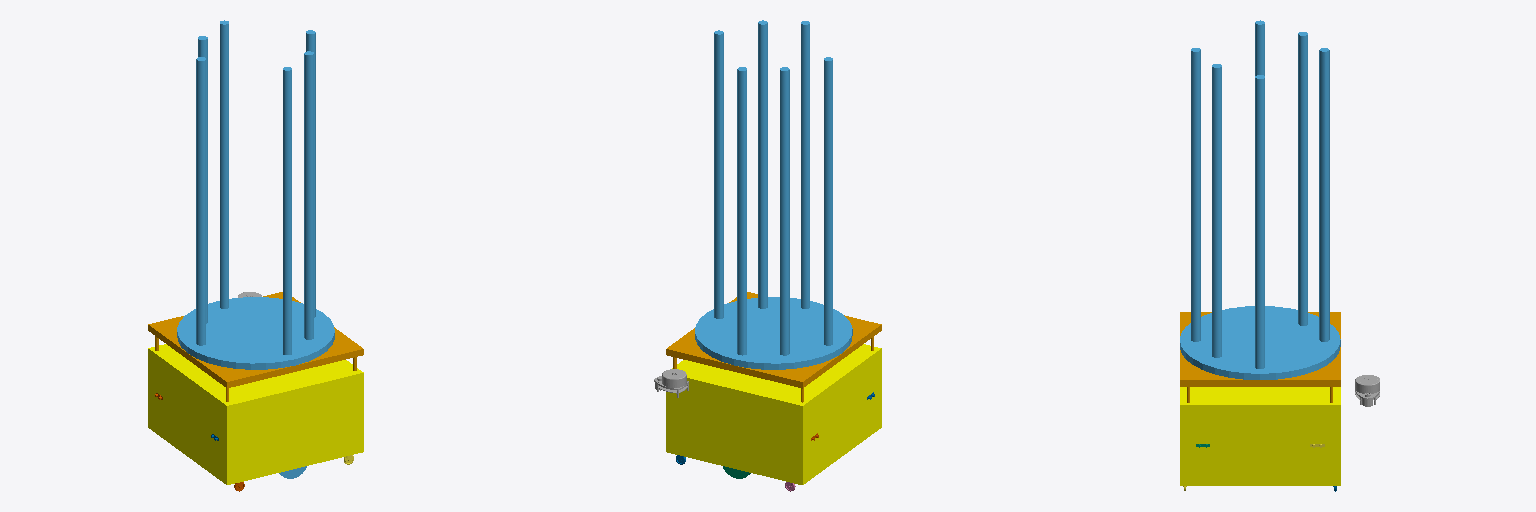
URDF robot description (uvd):
<?xml version="1.0" encoding="utf-8"?>
<!-- This URDF was automatically created by SolidWorks to URDF Exporter! Originally created by [author] ([email redacted])
     Commit Version: 1.5.1-0-g916b5db  Build Version: 1.5.7152.31018
     For more information, please see http://wiki.ros.org/sw_urdf_exporter -->
<robot
  name="uvd" xmlns:xacro="https://www.ros.org/wiki/xacro">
  <link
    name="base_link">
    <inertial>
      <origin
        xyz="0.0 0.0 0.0"
        rpy="0 0 0" />
      <mass
        value="10" />
      <inertia
        ixx="0.01"
        ixy="0.0"
        ixz="0.0"
        iyy="0.01"
        iyz="0.0"
        izz="0.01" />
    </inertial>
    <visual>
      <origin
        xyz="0 0 0"
        rpy="0 0 0" />
      <geometry>
        <mesh
          filename="package://uvd/meshes/base.stl" />
      </geometry>
      <material
        name="">
        <color
          rgba="1 1 0 1" />
      </material>
    </visual>
    <collision>
      <origin
        xyz="0 0 0"
        rpy="0 0 0" />
      <geometry>
	  <box size="0.45 0.45 0.25" />
      </geometry>
    </collision>
  </link>
  <link
    name="back_right_wheel">
    <inertial>
      <origin
        xyz="0.0 0.0 0.0"
        rpy="0 0 0" />
      <mass
        value="3" />
      <inertia
        ixx="0.01"
        ixy="0.0"
        ixz="0.0"
        iyy="0.01"
        iyz="0.0"
        izz="0.01" />
    </inertial>
    <visual>
      <origin
        xyz="0 0 0"
        rpy="0 0 0" />
      <geometry>
        <mesh
          filename="package://uvd/meshes/wheel.stl" />
      </geometry>
    </visual>
    <collision>
      <origin
        xyz="0 0 0"
        rpy="0 1.57075 1.57075" />
      <geometry>
	  <cylinder length="0.03" radius="0.05"/>
      </geometry>
    </collision>
  </link>
  <joint
    name="back_right_wheel_joint"
    type="continuous">
    <origin
      xyz="0 -0.2 -0.11"
      rpy="0 0 3.1416" />
    <parent
      link="base_link" />
    <child
      link="back_right_wheel" />
    <axis
      xyz="0 -1 0" />
  </joint>
  <link
    name="back_left_wheel">
    <inertial>
      <origin
        xyz="0.0 0.0 0.0"
        rpy="0 0 0" />
      <mass
        value="3" />
      <inertia
        ixx="0.01"
        ixy="0.0"
        ixz="0.0"
        iyy="0.01"
        iyz="0.0"
        izz="0.01" />
    </inertial>
    <visual>
      <origin
        xyz="0 0 0"
        rpy="0 0 0" />
      <geometry>
        <mesh
          filename="package://uvd/meshes/wheel.stl" />
      </geometry>
    </visual>
    <collision>
      <origin
        xyz="0 0 0"
        rpy="0 1.57075 1.57075" />
      <geometry>
	  <cylinder length="0.03" radius="0.05"/>
      </geometry>
    </collision>
  </link>
  <joint
    name="back_left_wheel_joint"
    type="continuous">
    <origin
      xyz="0 0.2 -0.11"
      rpy="0 0 0" />
    <parent
      link="base_link" />
    <child

      link="back_left_wheel" />
    <axis
      xyz="0 1 0" />
  </joint>

  <gazebo>
    <plugin filename="libgazebo_ros_diff_drive.so" name="differential_drive_controller_front">
      <rosDebugLevel>Debug</rosDebugLevel>
      <publishWheelTF>True</publishWheelTF>
      
      <publishTf>1</publishTf>
      <publishWheelJointState>true</publishWheelJointState>
      <alwaysOn>true</alwaysOn>
      <updateRate>100.0</updateRate>
      <leftJoint>back_right_wheel_joint</leftJoint>
      <rightJoint>back_left_wheel_joint</rightJoint>
      <wheelSeparation>0.4</wheelSeparation>
      <wheelDiameter>0.1</wheelDiameter>
      <broadcastTF>1</broadcastTF>
      <wheelTorque>30</wheelTorque>
      <wheelAcceleration>1.8</wheelAcceleration>
      <commandTopic>cmd_vel</commandTopic>
      <odometryFrame>odom</odometryFrame>
      <odometryTopic>odom</odometryTopic>
      <robotBaseFrame>base_link</robotBaseFrame>
    </plugin>
  </gazebo>


  <link
    name="front_caster_right_wheel">
    <inertial>
      <origin
        xyz="0.0 0.0 0.0"
        rpy="0 0 0" />
      <mass
        value="3" />
      <inertia
        ixx="0.01"
        ixy="0.0"
        ixz="0.0"
        iyy="0.01"
        iyz="0.0"
        izz="0.01" />
    </inertial>
    <visual>
      <origin
        xyz="0 0 0"
        rpy="0 0 0" />
      <geometry>
        <mesh
          filename="package://uvd/meshes/caster.stl" />
      </geometry>
    </visual>
    <collision>
      <origin
        xyz="0.005 0 -0.0085"
        rpy="0 0 0" />
      <geometry>
	  <box size="0.037942 0.014811 0.037519" />
      </geometry>
    </collision>
  </link>
  <joint
    name="front_caster_right_wheel_joint"
    type="fixed">
    <origin
      xyz="0.18 -0.21 -0.1327"
      rpy="0 0 0" />
    <parent
      link="base_link" />
    <child

      link="front_caster_right_wheel" />
    <axis
      xyz="0 0 0" />
  </joint>
  <link
    name="front_caster_left_wheel">
    <inertial>
      <origin
        xyz="0.0 0.0 0.0"
        rpy="0 0 0" />
      <mass
        value="3" />
      <inertia
        ixx="0.01"
        ixy="0.0"
        ixz="0.0"
        iyy="0.01"
        iyz="0.0"
        izz="0.01" />
    </inertial>
    <visual>
      <origin
        xyz="0 0 0"
        rpy="0 0 0" />
      <geometry>
        <mesh
          filename="package://uvd/meshes/caster.stl" />
      </geometry>
    </visual>
    <collision>
      <origin
        xyz="0.005 0 -0.0085"
        rpy="0 0 0" />
      <geometry>
	  <box size="0.037942 0.014811 0.037519" />
      </geometry>
    </collision>
  </link>
  <joint
    name="front_caster_left_wheel_joint"
    type="fixed">
    <origin
      xyz="0.18 0.21 -0.1327"
      rpy="0 0 0" />
    <parent
      link="base_link" />
    <child
      link="front_caster_left_wheel" />
    <axis
      xyz="0 0 0" />
  </joint>

  <link
    name="back_caster_right_wheel">
    <inertial>
      <origin
        xyz="0.0 0.0 0.0"
        rpy="0 0 0" />
      <mass
        value="3" />
      <inertia
        ixx="0.01"
        ixy="0.0"
        ixz="0.0"
        iyy="0.01"
        iyz="0.0"
        izz="0.01" />
    </inertial>
    <visual>
      <origin
        xyz="0 0 0"
        rpy="0 0 0" />
      <geometry>
        <mesh
          filename="package://uvd/meshes/caster.stl" />
      </geometry>
    </visual>
    <collision>
      <origin
        xyz="0.005 0 -0.0085"
        rpy="0 0 0" />
      <geometry>
	  <box size="0.037942 0.014811 0.037519" />
      </geometry>
    </collision>
  </link>
  <joint
    name="back_caster_right_wheel_joint"
    type="fixed">
    <origin
      xyz="-0.18 -0.21 -0.1327"
      rpy="0 0 0" />
    <parent
      link="base_link" />
    <child
      link="back_caster_right_wheel" />
    <axis
      xyz="0 0 0" />
  </joint>
  <link
    name="back_caster_left_wheel">
    <inertial>
      <origin
        xyz="0.0 0.0 0.0"
        rpy="0 0 0" />
      <mass
        value="3" />
      <inertia
        ixx="0.01"
        ixy="0.0"
        ixz="0.0"
        iyy="0.01"
        iyz="0.0"
        izz="0.01" />
    </inertial>
    <visual>
      <origin
        xyz="0 0 0"
        rpy="0 0 0" />
      <geometry>
        <mesh
          filename="package://uvd/meshes/caster.stl" />
      </geometry>
    </visual>
    <collision>
      <origin
        xyz="0.005 0 -0.0085"
        rpy="0 0 0" />
      <geometry>
	  <box size="0.037942 0.014811 0.037519" />
      </geometry>
    </collision>
  </link>
  <joint
    name="back_caster_left_wheel_joint"
    type="fixed">
    <origin
      xyz="-0.18 0.21 -0.1327"
      rpy="0 0 0" />
    <parent
      link="base_link" />
    <child
      link="back_caster_left_wheel" />
    <axis
      xyz="0 0 0" />
  </joint>

  <link
    name="laser">
    <inertial>
      <origin
        xyz="0.0 0.0 0.0"
        rpy="0 0 0" />
      <mass
        value="3" />
      <inertia
        ixx="0.01"
        ixy="0.0"
        ixz="0.0"
        iyy="0.01"
        iyz="0.0"
        izz="0.01" />
    </inertial>
    <visual>
      <origin
        xyz="0 0 0"
        rpy="0 0 0" />
      <geometry>
        <mesh
          filename="package://uvd/meshes/lidar.STL" />
      </geometry>
    </visual>
    <collision>
      <origin
        xyz="0 0 0"
        rpy="0 0 0" />
      <geometry>
        <mesh
          filename="package://uvd/meshes/lidar.STL" />
      </geometry>
    </collision>
  </link>
  <joint
    name="lidar_joint"
    type="fixed">
    <origin
      xyz="0.16 0.3 0.15"
      rpy="0 0 3.14" />
    <parent
      link="base_link" />
    <child
      link="laser" />
    <axis
      xyz="0 0 0" />
  </joint>

  <gazebo reference="laser">
    <sensor type="ray" name="lds_lfcd_sensor">
      <pose>0 0 0 0 0 0</pose>
      <visualize>false</visualize>
      <update_rate>5</update_rate>
      <ray>
        <scan>
          <horizontal>
            <samples>360</samples>
            <resolution>1</resolution>
            <min_angle>0.0</min_angle>
            <max_angle>6.28319</max_angle>
          </horizontal>
        </scan>
        <range>
          <min>0.120</min>
          <max>30.0</max>
          <resolution>0.015</resolution>
        </range>
        <noise>
          <type>gaussian</type>
          <mean>0.0</mean>
          <stddev>0.01</stddev>
        </noise>
      </ray>
      <plugin name="gazebo_ros_lds_lfcd_controller" filename="libgazebo_ros_laser.so">
        <topicName>scan</topicName>
        <frameName>laser</frameName>
      </plugin>
    </sensor>
  </gazebo>


  <link
    name="shelf">
    <inertial>
      <origin
        xyz="0.0 0.0 0.0"
        rpy="0 0 0" />
      <mass
        value="3" />
      <inertia
        ixx="0.01"
        ixy="0.0"
        ixz="0.0"
        iyy="0.01"
        iyz="0.0"
        izz="0.01" />
    </inertial>
    <visual>
      <origin
        xyz="0 0 0"
        rpy="0 0 0" />
      <geometry>
        <mesh
          filename="package://uvd/meshes/shelf.stl" />
      </geometry>
    </visual>
    <collision>
      <origin
        xyz="0 0 0"
        rpy="0 0 0" />
      <geometry>
        <box size="0.45 0.45 0.04" />
      </geometry>
    </collision>
  </link>
  <joint
    name="shelf_joint"
    type="fixed">
    <origin
      xyz="0 0 0.19"
      rpy="0 0 0" />
    <parent
      link="base_link" />
    <child
      link="shelf" />
    <axis
      xyz="0 0 0" />
  </joint>

  <link
    name="circuler">
    <inertial>
      <origin
        xyz="0.0 0.0 0.0"
        rpy="0 0 0" />
      <mass
        value="3" />
      <inertia
        ixx="0.01"
        ixy="0.0"
        ixz="0.0"
        iyy="0.01"
        iyz="0.0"
        izz="0.01" />
    </inertial>
    <visual>
      <origin
        xyz="0 0 0"
        rpy="0 0 0" />
      <geometry>
        <mesh
          filename="package://uvd/meshes/circuler.stl" />
      </geometry>
    </visual>
    <collision>
      <origin
        xyz="0 0 0"
        rpy="0 0 0" />
      <geometry>
        <mesh
          filename="package://uvd/meshes/circuler.stl" />
      </geometry>
    </collision>
  </link>
  <joint
    name="circuler_joint"
    type="fixed">
    <origin
      xyz="0 0 0.21"
      rpy="0 0 0" />
    <parent
      link="base_link" />
    <child
      link="circuler" />
    <axis
      xyz="0 0 0" />
  </joint>

  <link
    name="fr_sonar">
    <inertial>
      <origin
        xyz="0.0 0.0 0.0"
        rpy="0 0 0" />
      <mass
        value="3" />
      <inertia
        ixx="0.01"
        ixy="0.0"
        ixz="0.0"
        iyy="0.01"
        iyz="0.0"
        izz="0.01" />
    </inertial>
    <visual>
      <origin
        xyz="0 0 0"
        rpy="0 0 0" />
      <geometry>
        <mesh
          filename="package://uvd/meshes/sonar.stl" />
      </geometry>
    </visual>
    <collision>
      <origin
        xyz="0 0 0"
        rpy="0 0 0" />
      <geometry>
        <mesh
          filename="package://uvd/meshes/sonar.stl" />
      </geometry>
    </collision>
  </link>
  <joint
    name="fr_joint"
    type="fixed">
    <origin
      xyz="0.225 -0.16 0"
      rpy="0 0 0" />
    <parent
      link="base_link" />
    <child
      link="fr_sonar" />
    <axis
      xyz="0 0 0" />
  </joint>

    <gazebo reference="fr_sonar">
      <sensor type="ray" name="fr_sonar">
        <always_on>true</always_on>
        <update_rate>10</update_rate>
        <pose>0 0 0 0 0 0</pose>
        <visualize>false</visualize>
        <ray>
          <scan>
            <horizontal>
              <samples>3</samples>
              <resolution>1</resolution>
              <min_angle>-0.698111111111111</min_angle>
              <max_angle> 0.698111111111111</max_angle>
            </horizontal>
            <vertical>
              <samples>3</samples>
              <resolution>1</resolution>
              <min_angle>-0.698111111111111</min_angle>
              <max_angle> 0.698111111111111</max_angle>
            </vertical>
          </scan>
          <range>
            <min>0.03</min>
            <max>3.0</max>
            <resolution>0.01</resolution>
          </range>
        </ray>

        <plugin name="gazebo_ros_fr_sonar_controller" filename="libhector_gazebo_ros_sonar.so">
          <gaussianNoise>0.005</gaussianNoise>
          <topicName>fr_scan</topicName>
          <frameId>fr_sonar</frameId>
        </plugin>
      </sensor>
    </gazebo>

  <link
    name="fl_sonar">
    <inertial>
      <origin
        xyz="0.0 0.0 0.0"
        rpy="0 0 0" />
      <mass
        value="3" />
      <inertia
        ixx="0.01"
        ixy="0.0"
        ixz="0.0"
        iyy="0.01"
        iyz="0.0"
        izz="0.01" />
    </inertial>
    <visual>
      <origin
        xyz="0 0 0"
        rpy="0 0 0" />
      <geometry>
        <mesh
          filename="package://uvd/meshes/sonar.stl" />
      </geometry>
    </visual>
    <collision>
      <origin
        xyz="0 0 0"
        rpy="0 0 0" />
      <geometry>
        <mesh
          filename="package://uvd/meshes/sonar.stl" />
      </geometry>
    </collision>
  </link>
  <joint
    name="fl_joint"
    type="fixed">
    <origin
      xyz="0.225 0.16 0"
      rpy="0 0 0" />
    <parent
      link="base_link" />
    <child
      link="fl_sonar" />
    <axis
      xyz="0 0 0" />
  </joint>

    <gazebo reference="fl_sonar">
      <sensor type="ray" name="fl_sonar">
        <always_on>true</always_on>
        <update_rate>10</update_rate>
        <pose>0 0 0 0 0 0</pose>
        <visualize>false</visualize>
        <ray>
          <scan>
            <horizontal>
              <samples>3</samples>
              <resolution>1</resolution>
              <min_angle>-0.698111111111111</min_angle>
              <max_angle> 0.698111111111111</max_angle>
            </horizontal>
            <vertical>
              <samples>3</samples>
              <resolution>1</resolution>
              <min_angle>-0.698111111111111</min_angle>
              <max_angle> 0.698111111111111</max_angle>
            </vertical>
          </scan>
          <range>
            <min>0.03</min>
            <max>3.0</max>
            <resolution>0.01</resolution>
          </range>
        </ray>

        <plugin name="gazebo_ros_fl_sonar_controller" filename="libhector_gazebo_ros_sonar.so">
          <gaussianNoise>0.005</gaussianNoise>
          <topicName>fl_scan</topicName>
          <frameId>fl_sonar</frameId>
        </plugin>
      </sensor>
    </gazebo>

  <link
    name="br_sonar">
    <inertial>
      <origin
        xyz="0.0 0.0 0.0"
        rpy="0 0 0" />
      <mass
        value="3" />
      <inertia
        ixx="0.01"
        ixy="0.0"
        ixz="0.0"
        iyy="0.01"
        iyz="0.0"
        izz="0.01" />
    </inertial>
    <visual>
      <origin
        xyz="0 0 0"
        rpy="0 0 0" />
      <geometry>
        <mesh
          filename="package://uvd/meshes/sonar.stl" />
      </geometry>
    </visual>
    <collision>
      <origin
        xyz="0 0 0"
        rpy="0 0 0" />
      <geometry>
        <mesh
          filename="package://uvd/meshes/sonar.stl" />
      </geometry>
    </collision>
  </link>
  <joint
    name="br_joint"
    type="fixed">
    <origin
      xyz="-0.225 -0.16 0"
      rpy="0 0 3.14159" />
    <parent
      link="base_link" />
    <child
      link="br_sonar" />
    <axis
      xyz="0 0 0" />
  </joint>

    <gazebo reference="br_sonar">
      <sensor type="ray" name="br_sonar">
        <always_on>true</always_on>
        <update_rate>10</update_rate>
        <pose>0 0 0 0 0 0</pose>
        <visualize>false</visualize>
        <ray>
          <scan>
            <horizontal>
              <samples>3</samples>
              <resolution>1</resolution>
              <min_angle>-0.698111111111111</min_angle>
              <max_angle> 0.698111111111111</max_angle>
            </horizontal>
            <vertical>
              <samples>3</samples>
              <resolution>1</resolution>
              <min_angle>-0.698111111111111</min_angle>
              <max_angle> 0.698111111111111</max_angle>
            </vertical>
          </scan>
          <range>
            <min>0.03</min>
            <max>3.0</max>
            <resolution>0.01</resolution>
          </range>
        </ray>

        <plugin name="gazebo_ros_br_sonar_controller" filename="libhector_gazebo_ros_sonar.so">
          <gaussianNoise>0.005</gaussianNoise>
          <topicName>br_scan</topicName>
          <frameId>br_sonar</frameId>
        </plugin>
      </sensor>
    </gazebo>

  <link
    name="bl_sonar">
    <inertial>
      <origin
        xyz="0.0 0.0 0.0"
        rpy="0 0 0" />
      <mass
        value="3" />
      <inertia
        ixx="0.01"
        ixy="0.0"
        ixz="0.0"
        iyy="0.01"
        iyz="0.0"
        izz="0.01" />
    </inertial>
    <visual>
      <origin
        xyz="0 0 0"
        rpy="0 0 0" />
      <geometry>
        <mesh
          filename="package://uvd/meshes/sonar.stl" />
      </geometry>
    </visual>
    <collision>
      <origin
        xyz="0 0 0"
        rpy="0 0 0" />
      <geometry>
        <mesh
          filename="package://uvd/meshes/sonar.stl" />
      </geometry>
    </collision>
  </link>
  <joint
    name="bl_joint"
    type="fixed">
    <origin
      xyz="-0.225 0.16 0"
      rpy="0 0 3.14159" />
    <parent
      link="base_link" />
    <child
      link="bl_sonar" />
    <axis
      xyz="0 0 0" />
  </joint>

    <gazebo reference="bl_sonar">
      <sensor type="ray" name="bl_sonar">
        <always_on>true</always_on>
        <update_rate>10</update_rate>
        <pose>0 0 0 0 0 0</pose>
        <visualize>false</visualize>
        <ray>
          <scan>
            <horizontal>
              <samples>3</samples>
              <resolution>1</resolution>
              <min_angle>-0.698111111111111</min_angle>
              <max_angle> 0.698111111111111</max_angle>
            </horizontal>
            <vertical>
              <samples>3</samples>
              <resolution>1</resolution>
              <min_angle>-0.698111111111111</min_angle>
              <max_angle> 0.698111111111111</max_angle>
            </vertical>
          </scan>
          <range>
            <min>0.03</min>
            <max>3.0</max>
            <resolution>0.01</resolution>
          </range>
        </ray>

        <plugin name="gazebo_ros_bl_sonar_controller" filename="libhector_gazebo_ros_sonar.so">
          <gaussianNoise>0.005</gaussianNoise>
          <topicName>bl_scan</topicName>
          <frameId>bl_sonar</frameId>
        </plugin>
      </sensor>
    </gazebo>

  <link name="imu_link"/>
  <joint name="imu_joint" type="fixed">
    <parent link="base_link"/>
    <child link="imu_link"/>
    <origin xyz="-0.032 0 0.068" rpy="0 0 0"/>
  </joint>

 <gazebo>
    <plugin name="imu_plugin" filename="libgazebo_ros_imu.so">
      <alwaysOn>true</alwaysOn>
      <bodyName>imu_link</bodyName>
      <frameName>imu_link</frameName>
      <topicName>imu</topicName>
      <serviceName>imu_service</serviceName>
      <gaussianNoise>0.0</gaussianNoise>
      <updateRate>200</updateRate>
      <imu>
        <noise>
          <type>gaussian</type>
          <rate>
            <mean>0.0</mean>
            <stddev>2e-4</stddev>
            <bias_mean>0.0000075</bias_mean>
            <bias_stddev>0.0000008</bias_stddev>
          </rate>
          <accel>
            <mean>0.0</mean>
            <stddev>1.7e-2</stddev>
            <bias_mean>0.1</bias_mean>
            <bias_stddev>0.001</bias_stddev>
          </accel>
        </noise>
      </imu>
    </plugin>
  </gazebo>

</robot>

--- Render facts (derived) ---
Views: 3 orthographic renders of the robot side by side, from view 1: azimuth 30°, elevation 25°; view 2: azimuth 150°, elevation 25°; view 3: azimuth 270°, elevation 25°.
Robot: uvd — 15 links, 14 joints (2 continuous, 12 fixed); root link base_link; default pose: all joints at 0.
Links seen in each view (by area): view 1: base_link, circuler, shelf; view 2: circuler, base_link, shelf, laser; view 3: circuler, base_link, shelf, laser.
Link boxes in pixels (left/top/right/bottom): base_link: left=148, top=344, right=363, bottom=484; circuler: left=177, top=20, right=334, bottom=369; shelf: left=148, top=292, right=363, bottom=401; circuler: left=695, top=20, right=852, bottom=369; base_link: left=666, top=344, right=881, bottom=484; shelf: left=666, top=292, right=881, bottom=402; laser: left=654, top=369, right=688, bottom=397; circuler: left=1180, top=20, right=1340, bottom=379; base_link: left=1180, top=387, right=1340, bottom=485; shelf: left=1180, top=312, right=1340, bottom=402; laser: left=1355, top=375, right=1379, bottom=406.
Bounding box of the posed robot: 0.466 × 0.5611 × 1.28 m (x, y, z).
14 mesh visuals loaded from 7 distinct referenced files (7 binary STL).
